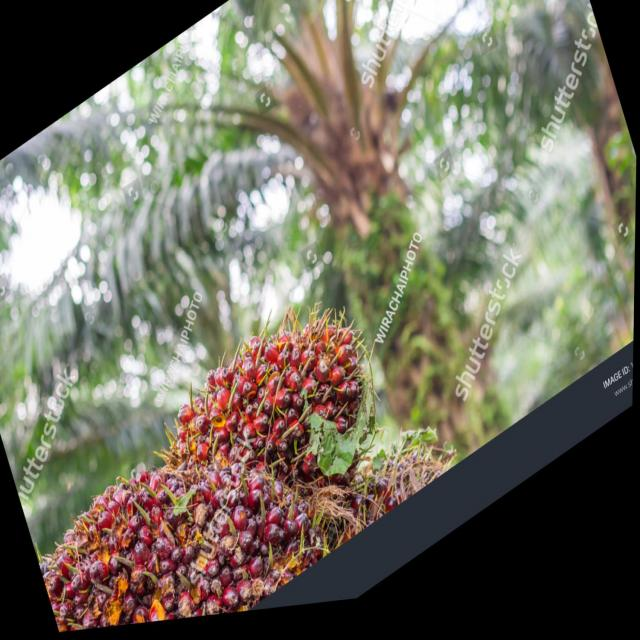Ripefruit: (36, 386, 330, 636), (161, 275, 389, 554)
